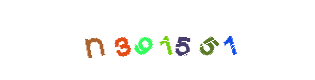1: (117, 0, 197, 80), (191, 0, 271, 80)
3: (103, 0, 183, 80)
5: (142, 0, 222, 80), (154, 0, 234, 80)
9: (103, 0, 183, 80)
N: (69, 0, 149, 80)
